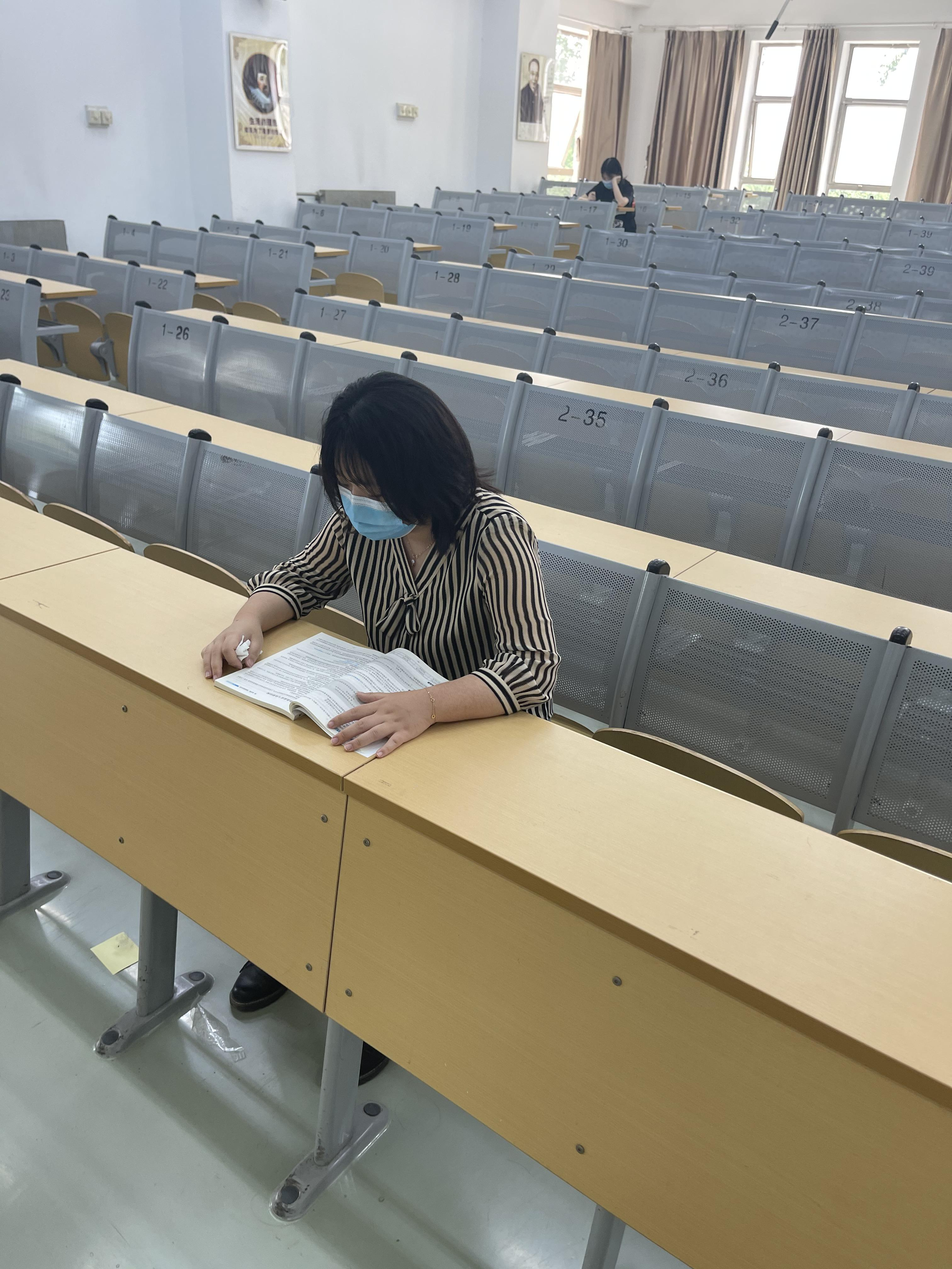study: (201, 371, 559, 753)
